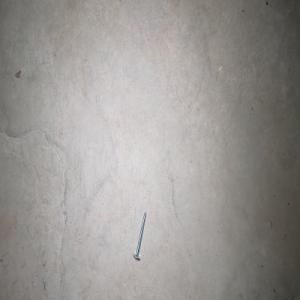Bolt: (132, 210, 146, 260)
